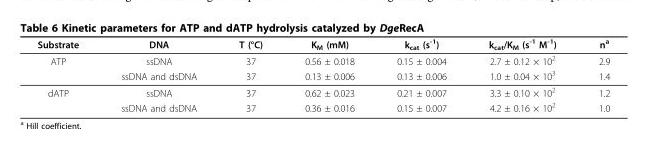table: (36, 36, 609, 113)
table column: (99, 36, 217, 113), (466, 36, 576, 113), (374, 36, 466, 113), (283, 36, 374, 113), (217, 36, 283, 113), (36, 36, 99, 113), (576, 36, 609, 113)
table column header: (36, 36, 609, 52)
table row: (36, 36, 609, 52), (36, 67, 609, 83), (36, 83, 609, 99), (36, 52, 609, 67), (36, 99, 609, 113)
table spanning cell: (36, 52, 99, 83), (36, 83, 99, 113)
